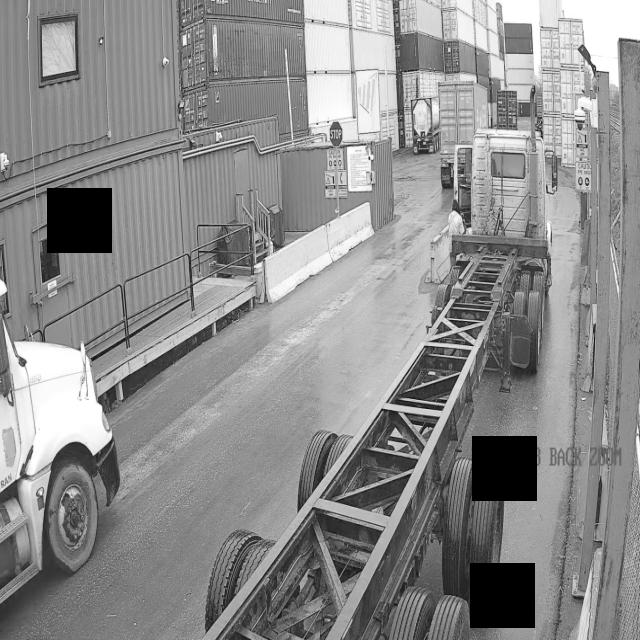driver: (448, 200, 465, 252)
truck_cabin: (0, 313, 120, 603)
truck_with_container: (440, 81, 489, 187)
truck_without_container: (203, 129, 558, 640)
